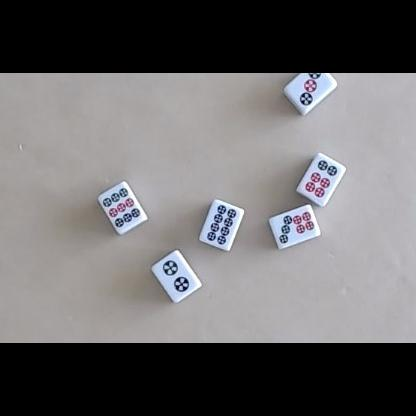2p: (162, 260, 189, 292)
3p: (298, 73, 321, 105)
6p: (305, 160, 338, 198)
7p: (279, 211, 315, 243)
8p: (207, 205, 237, 245)
9p: (103, 188, 141, 228)
